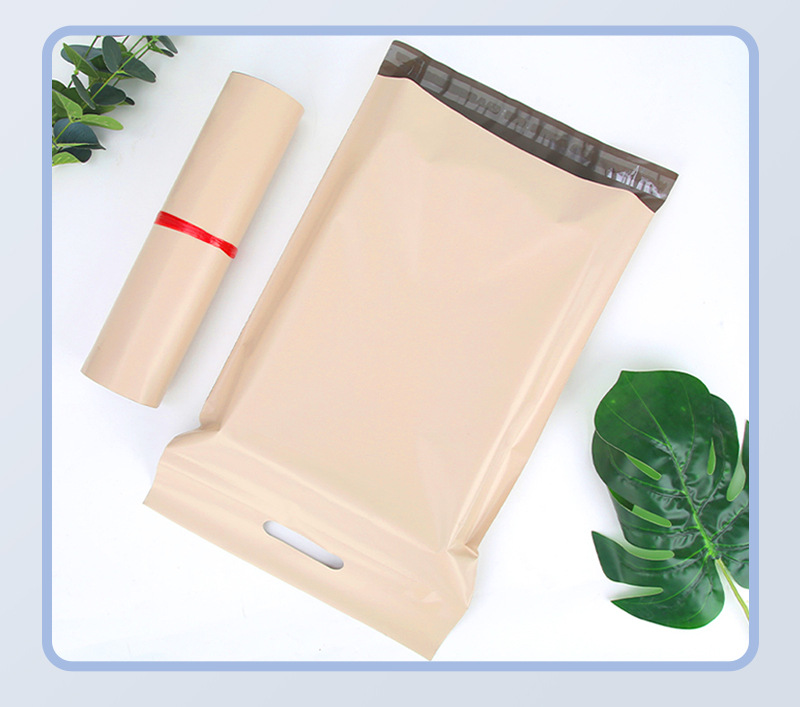塑料袋: (138, 33, 683, 659)
